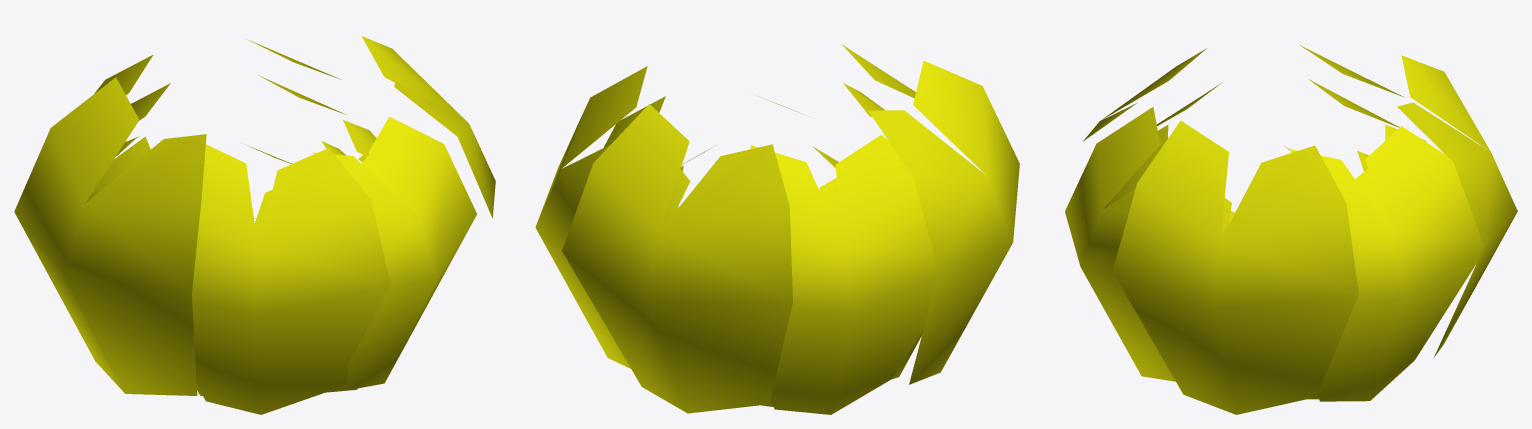
File: Cabbage.glb
The picture shows the model from 3 angles, left to right: view 1: azimuth 30°, elevation 25°; view 2: azimuth 150°, elevation 25°; view 3: azimuth 270°, elevation 25°; orthographic projection. The views are drawn at different scales.
Visible parts, largest first — view 1: polySurface1209; view 2: polySurface1209; view 3: polySurface1209.
Part boxes in pixels (x1,y1,x2,y2): polySurface1209: [14, 36, 495, 414]; polySurface1209: [535, 44, 1019, 414]; polySurface1209: [1065, 45, 1517, 414].
Bounding box in the file's own units: 0.8361 × 0.5713 × 0.8201.
1 material, 1 textured.
